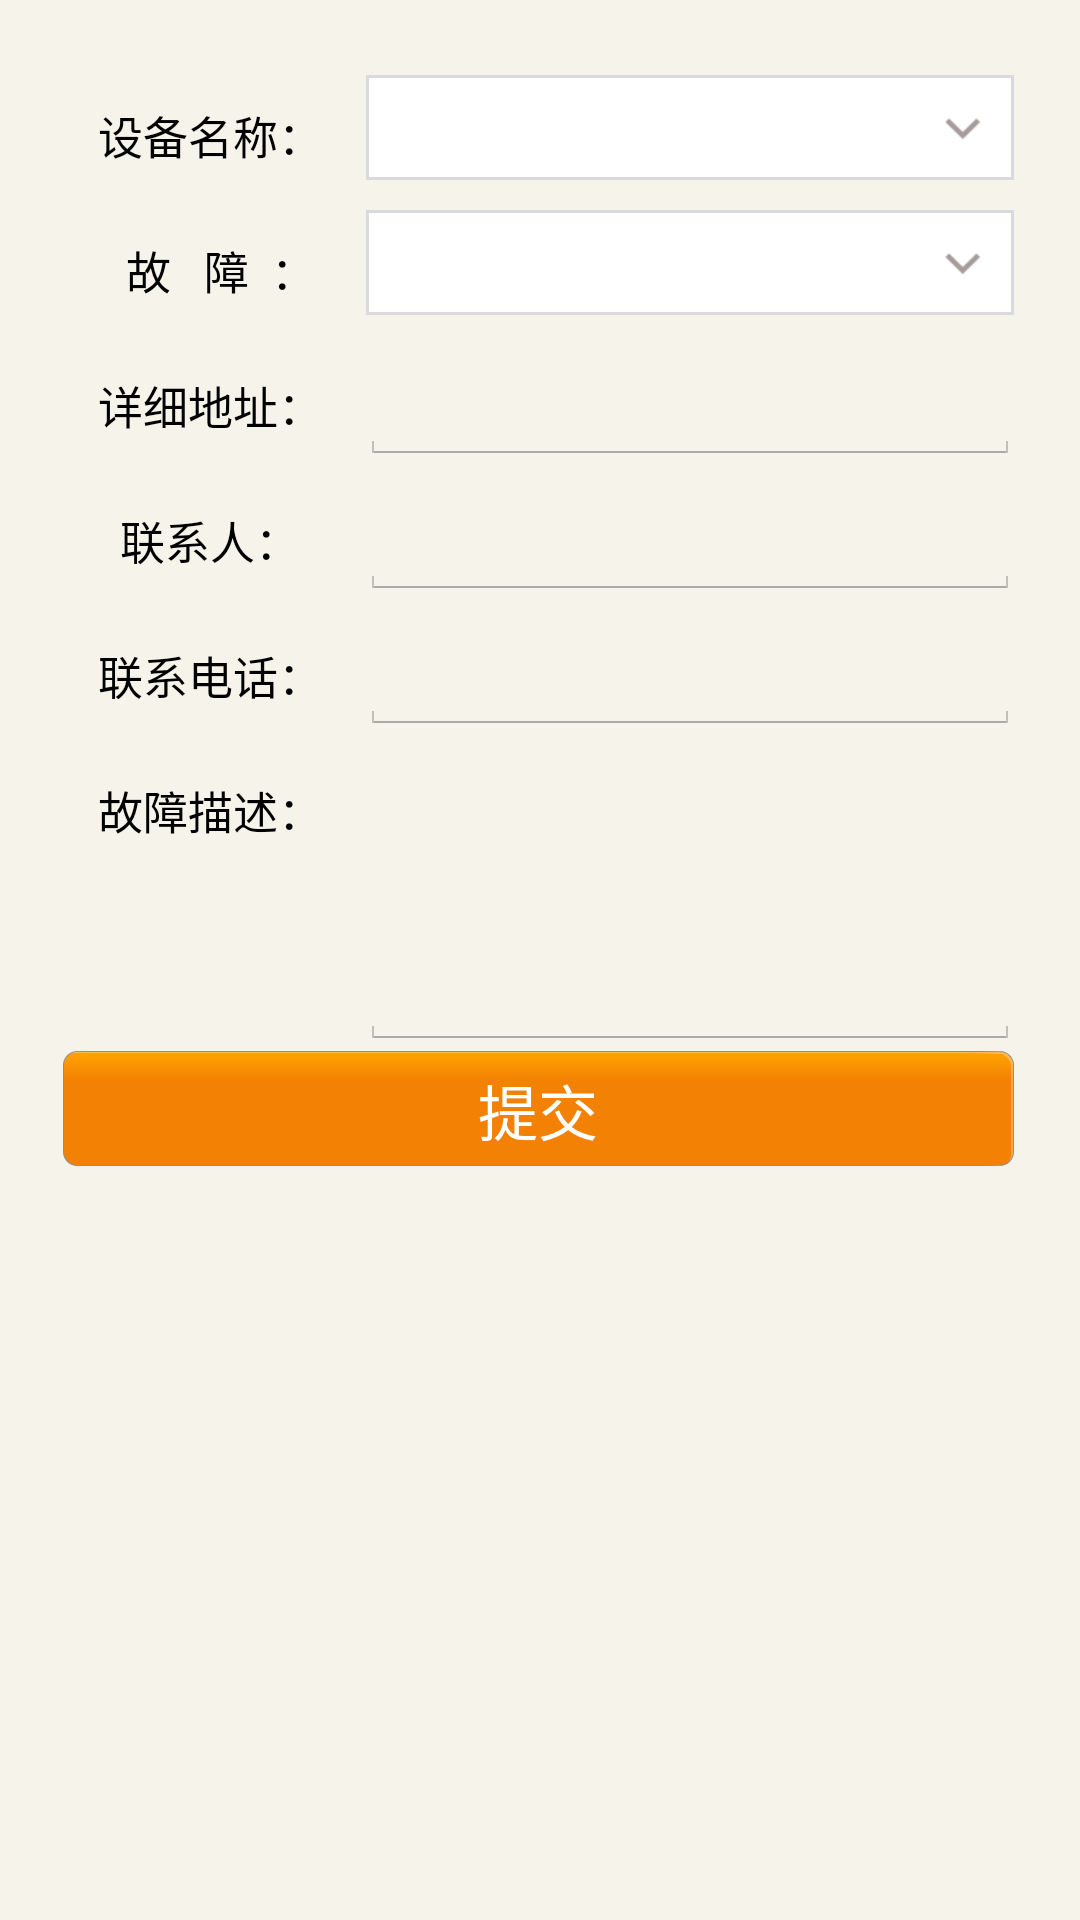

Icons on this 1080px x 1920px Android screen, each with the point to tap as (x=x, y=y):
arrow: (x=961, y=127), (x=961, y=262)
